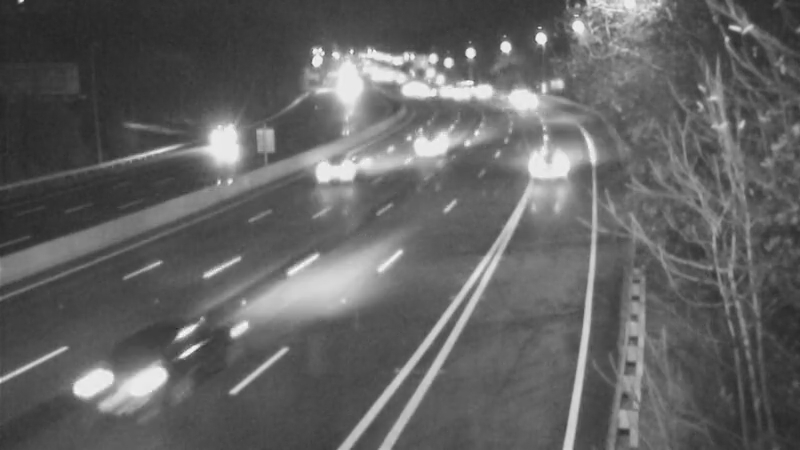vehicle: (58, 322, 168, 432), (511, 124, 591, 204), (294, 128, 374, 208), (439, 63, 489, 113), (380, 64, 430, 114), (463, 63, 513, 113), (491, 68, 541, 118), (504, 75, 554, 125), (410, 119, 460, 169), (189, 118, 239, 168)
